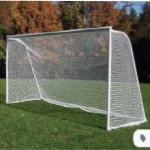goals: (4, 25, 149, 129)
